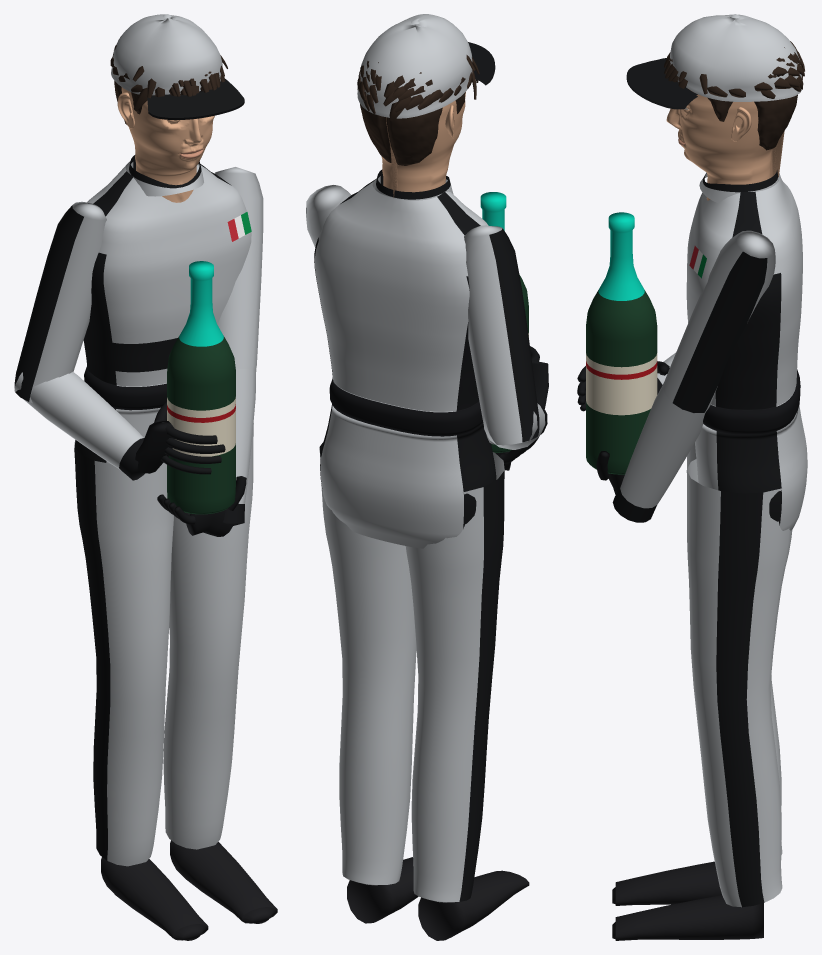
File: ANT.glb
3 views of the same model, side by side, from view 1: azimuth 30°, elevation 25°; view 2: azimuth 150°, elevation 25°; view 3: azimuth 270°, elevation 25° (orthographic). The views are drawn at different scales.
Parts seen in each view (by area): view 1: legs, torso, bottle, arm_r_mesh, cap, forearm_r_mesh, face, arm_l_mesh, hand_r_mesh, forearm_l_mesh, hair_top, hand_l_mesh; view 2: legs, torso, arm_r_mesh, cap, face, hair, hair_top, arm_l_mesh, bottle, hand_r_mesh, forearm_r_mesh; view 3: legs, torso, bottle, cap, arm_l_mesh, face, forearm_l_mesh, hair_top, hair, hand_l_mesh.
Boxes of the visible parts, x1=… form: legs: x1=74, y1=423, x2=277, y2=940; torso: x1=75, y1=155, x2=251, y2=463; bottle: x1=167, y1=261, x2=235, y2=514; arm_r_mesh: x1=14, y1=201, x2=106, y2=403; cap: x1=111, y1=14, x2=244, y2=120; forearm_r_mesh: x1=14, y1=372, x2=144, y2=480; face: x1=117, y1=87, x2=214, y2=202; arm_l_mesh: x1=215, y1=167, x2=263, y2=369; hand_r_mesh: x1=135, y1=402, x2=225, y2=474; forearm_l_mesh: x1=223, y1=368, x2=256, y2=525; hair_top: x1=110, y1=45, x2=227, y2=111; hand_l_mesh: x1=157, y1=476, x2=246, y2=536; legs: x1=319, y1=442, x2=529, y2=940; torso: x1=314, y1=169, x2=496, y2=548; arm_r_mesh: x1=464, y1=225, x2=539, y2=445; cap: x1=357, y1=14, x2=495, y2=118; face: x1=381, y1=92, x2=465, y2=197; hair: x1=360, y1=92, x2=465, y2=165; hair_top: x1=357, y1=55, x2=479, y2=121; arm_l_mesh: x1=306, y1=185, x2=351, y2=247; bottle: x1=480, y1=192, x2=528, y2=452; hand_r_mesh: x1=530, y1=346, x2=548, y2=409; forearm_r_mesh: x1=484, y1=403, x2=547, y2=449; legs: x1=612, y1=443, x2=792, y2=940; torso: x1=686, y1=170, x2=807, y2=530; bottle: x1=586, y1=212, x2=657, y2=474; cap: x1=626, y1=14, x2=802, y2=109; arm_l_mesh: x1=663, y1=230, x2=775, y2=412; face: x1=666, y1=89, x2=784, y2=200; forearm_l_mesh: x1=612, y1=383, x2=705, y2=522; hair_top: x1=664, y1=41, x2=804, y2=100; hair: x1=707, y1=94, x2=797, y2=150; hand_l_mesh: x1=596, y1=451, x2=624, y2=494.
Bounding box in the file's own units: 0.4955 × 1.79 × 0.4122.
